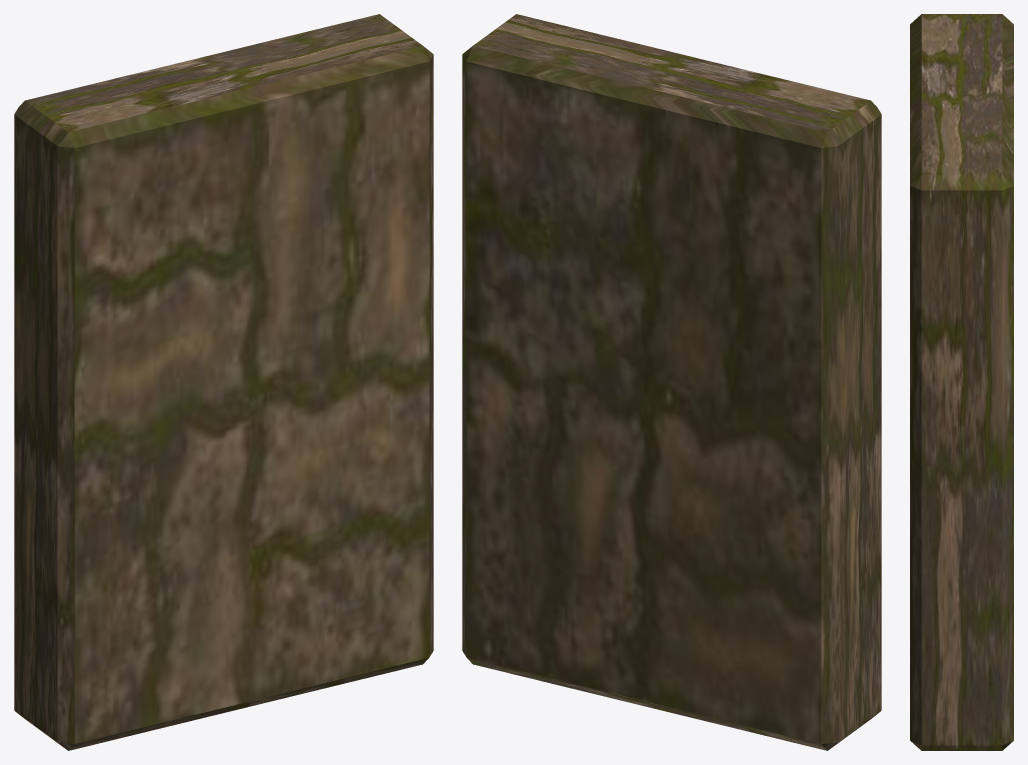
Rendered from grave.glb.
3 renders of one model, left to right at view 1: azimuth 30°, elevation 25°; view 2: azimuth 150°, elevation 25°; view 3: azimuth 270°, elevation 25°, orthographic. The views are drawn at different scales.
Parts seen in each view (by area): view 1: grave; view 2: grave; view 3: grave.
Boxes of the visible parts, left/top/right/bottom form: grave: left=14, top=14, right=433, bottom=750; grave: left=462, top=14, right=881, bottom=750; grave: left=910, top=14, right=1013, bottom=750.
Bounding box in the file's own units: 0.7 × 1.1 × 0.18.
Materials: 1 (1 with a texture image).
